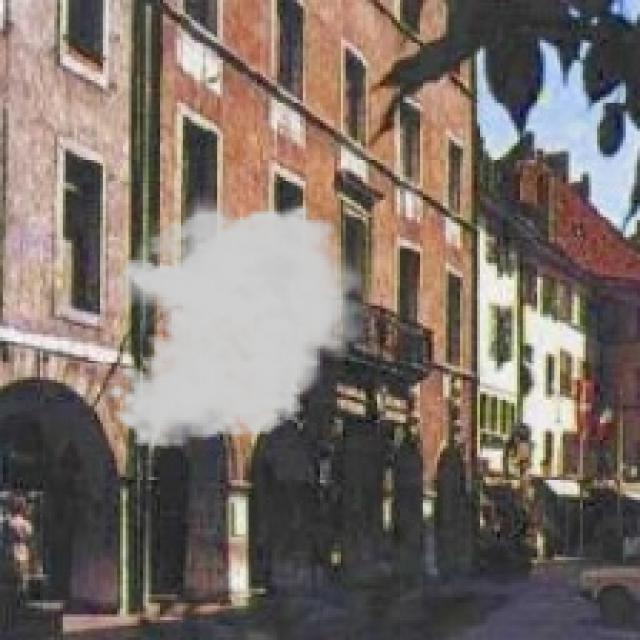smoke: (106, 188, 374, 452)
